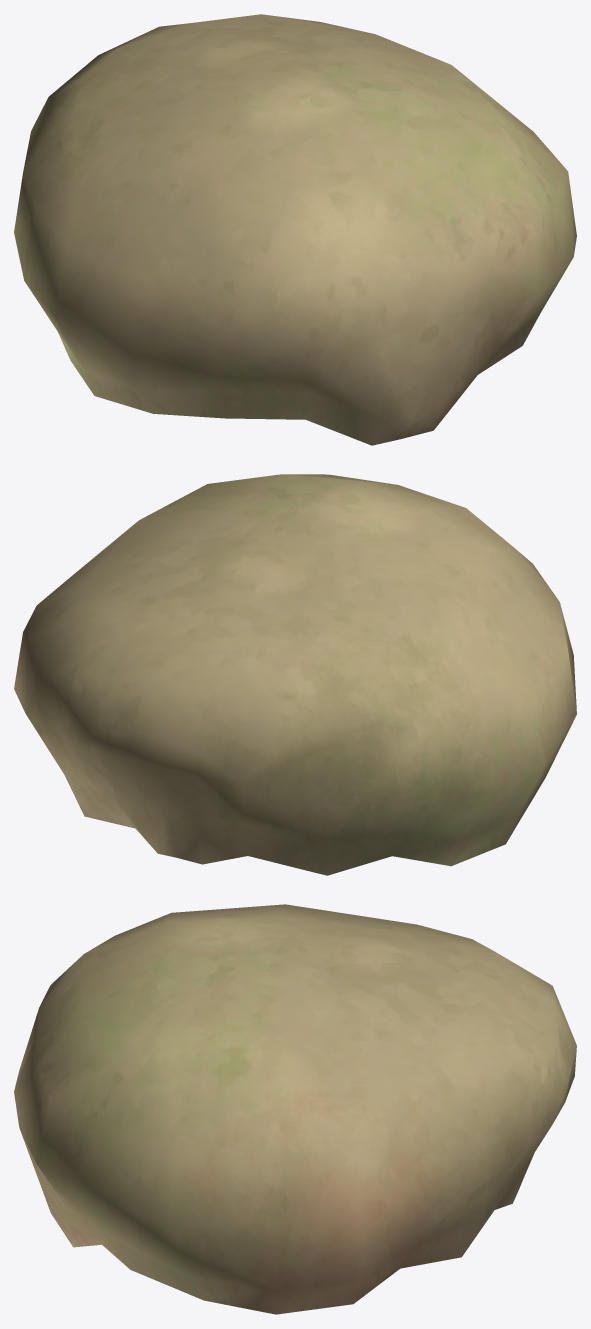
Rendered from softcoral-big-01.glb.
3 renders of one model, top to bottom at view 1: azimuth 30°, elevation 25°; view 2: azimuth 150°, elevation 25°; view 3: azimuth 270°, elevation 25°, orthographic.
Visible parts, largest first — view 1: Coral01_low; view 2: Coral01_low; view 3: Coral01_low.
Boxes of the visible parts, x1,y1,x2,y2 form: Coral01_low: (14,14,576,445); Coral01_low: (14,474,576,875); Coral01_low: (14,904,576,1314).
Size of the model in its own units: 2.16 by 1.26 by 2.19.
Materials: 1 (1 with a texture image).
